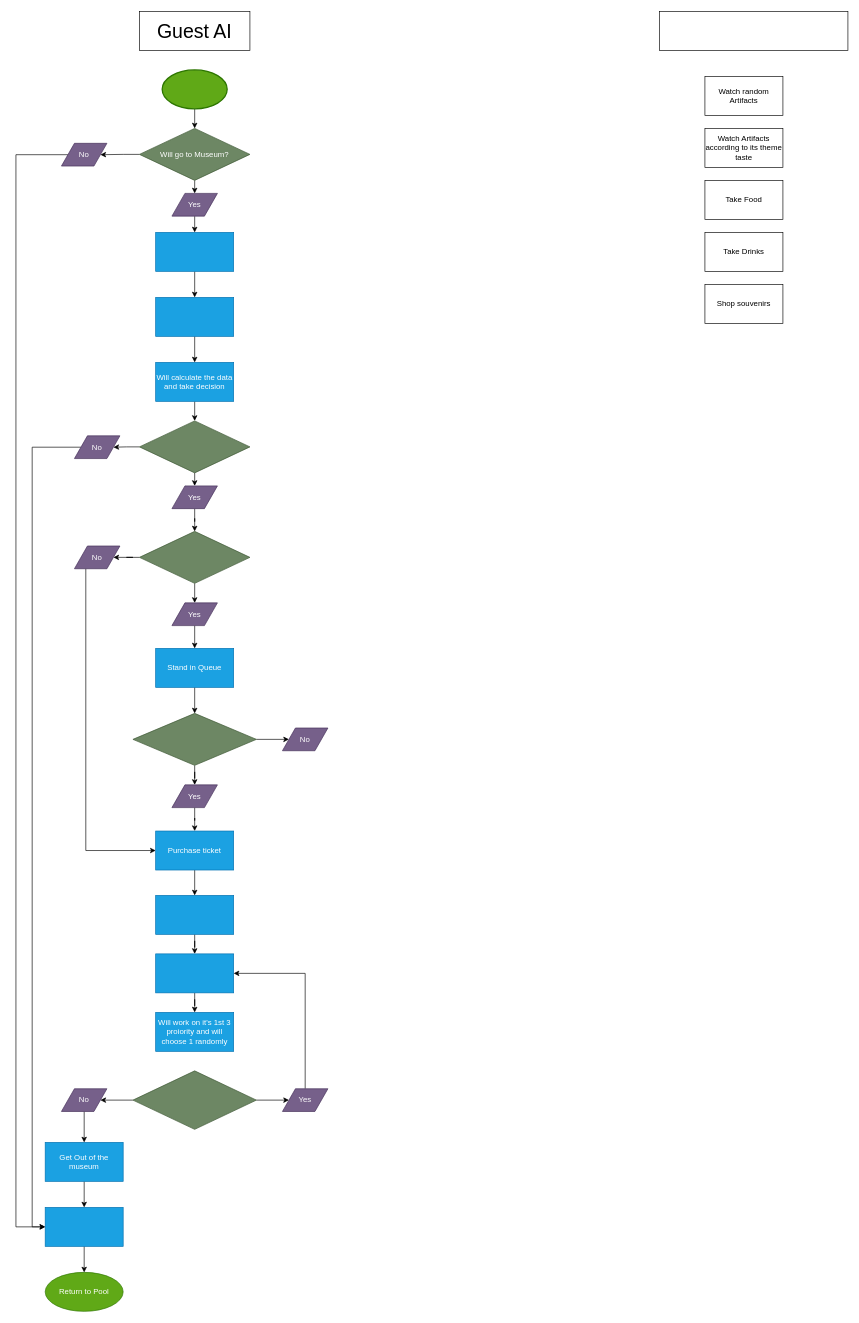
Some shapes in this 859 by 1323 pixel diagram are drawn without their labels. Each missing label, with the centre of its shape:
"Big queue?" goes at [194,557].
"Come infront of Museum enterence" goes at [194,251].
"Enter into Museum" goes at [194,914].
"First person of the Queue?" goes at [194,739].
"Get Data from Museum counter" goes at [194,316].
"Guest AI Wants" goes at [753,30].
"Spawn from Pool" goes at [194,89].
"Start walking out of the scene" goes at [84,1226].
"Task Complete and have enough time?" goes at [194,1099].
"Will enter into Museum ?" goes at [194,446].
"Will Search for it's want" goes at [194,973].
